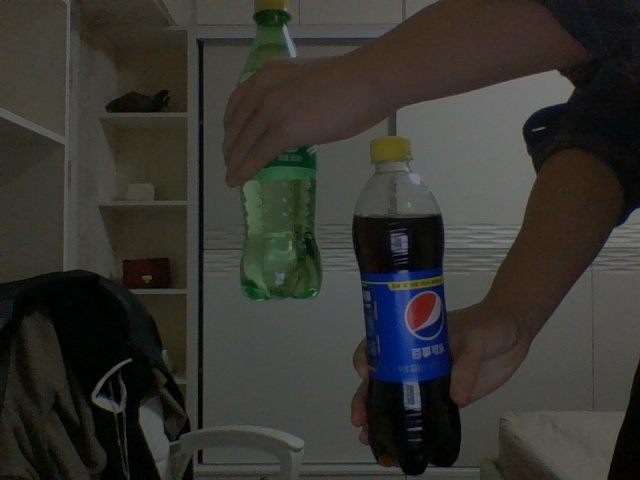Cola: (352, 135, 462, 475)
Sprite: (234, 1, 324, 300)
